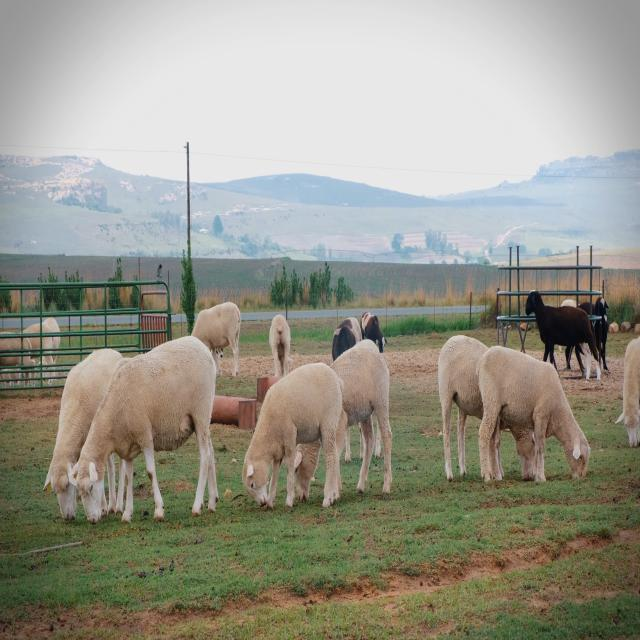sheep: (76, 329, 222, 520), (478, 323, 590, 505), (233, 364, 353, 522), (40, 352, 76, 522), (609, 323, 640, 449)
